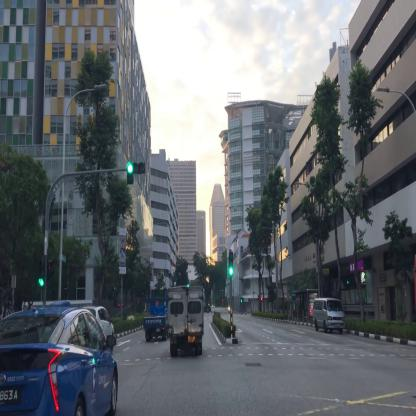green_traffic_light: (127, 164, 145, 173), (39, 258, 44, 286), (229, 252, 233, 275)
